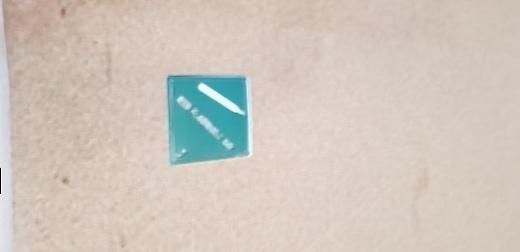non-flammable-gas: (169, 79, 255, 164)
